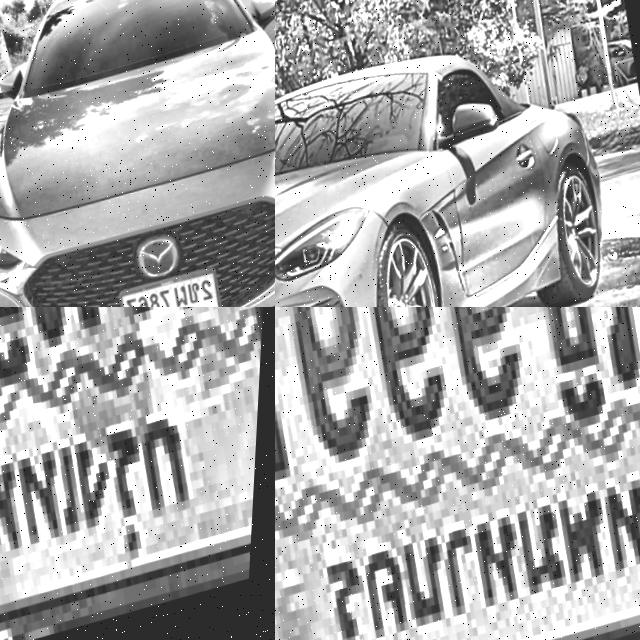license-plate: (275, 307, 640, 640), (0, 307, 275, 640), (122, 272, 233, 307)
